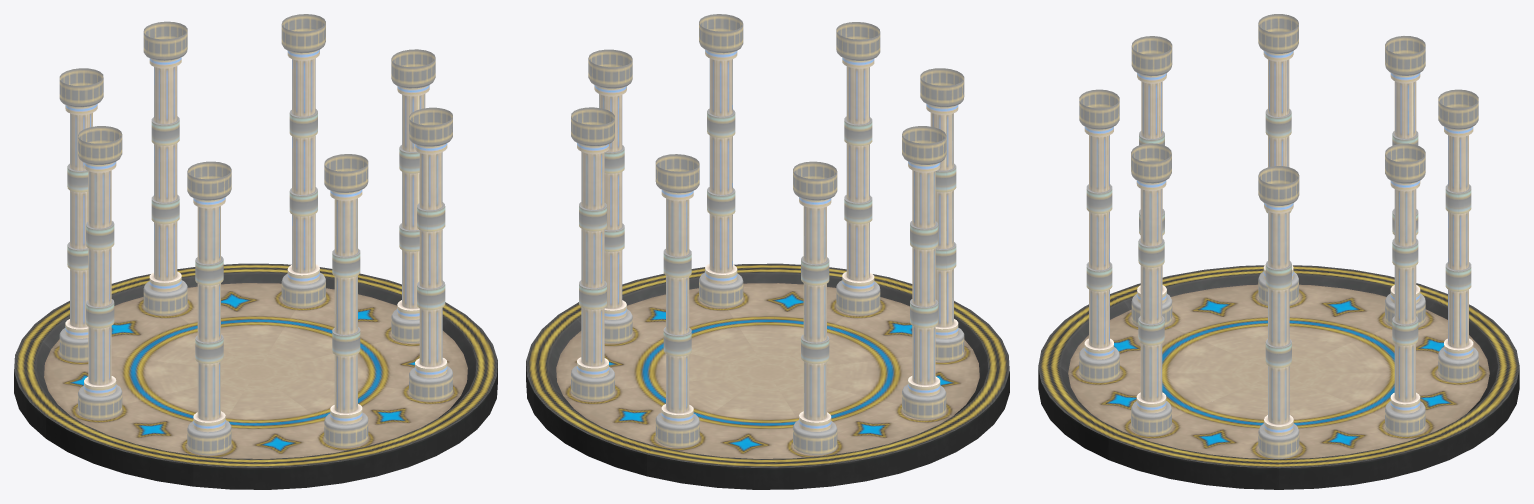
The picture shows the model from 3 angles, left to right: view 1: azimuth 30°, elevation 25°; view 2: azimuth 150°, elevation 25°; view 3: azimuth 270°, elevation 25°; orthographic projection.
Parts seen in each view (by area): view 1: Base_low9_aiStandardSurface2_0, Columna_low8_aiStandardSurface1_0; view 2: Base_low9_aiStandardSurface2_0, Columna_low8_aiStandardSurface1_0; view 3: Base_low9_aiStandardSurface2_0, Columna_low8_aiStandardSurface1_0.
Boxes of the visible parts, box(x1,y1,x2,y2) form: Base_low9_aiStandardSurface2_0: box(14, 263, 497, 489); Columna_low8_aiStandardSurface1_0: box(59, 14, 452, 455); Base_low9_aiStandardSurface2_0: box(526, 263, 1009, 489); Columna_low8_aiStandardSurface1_0: box(571, 14, 964, 454); Base_low9_aiStandardSurface2_0: box(1038, 265, 1519, 489); Columna_low8_aiStandardSurface1_0: box(1079, 14, 1478, 458).
Size of the model in its own units: 2.06 by 1.37 by 2.06.
2 materials, 2 textured.
